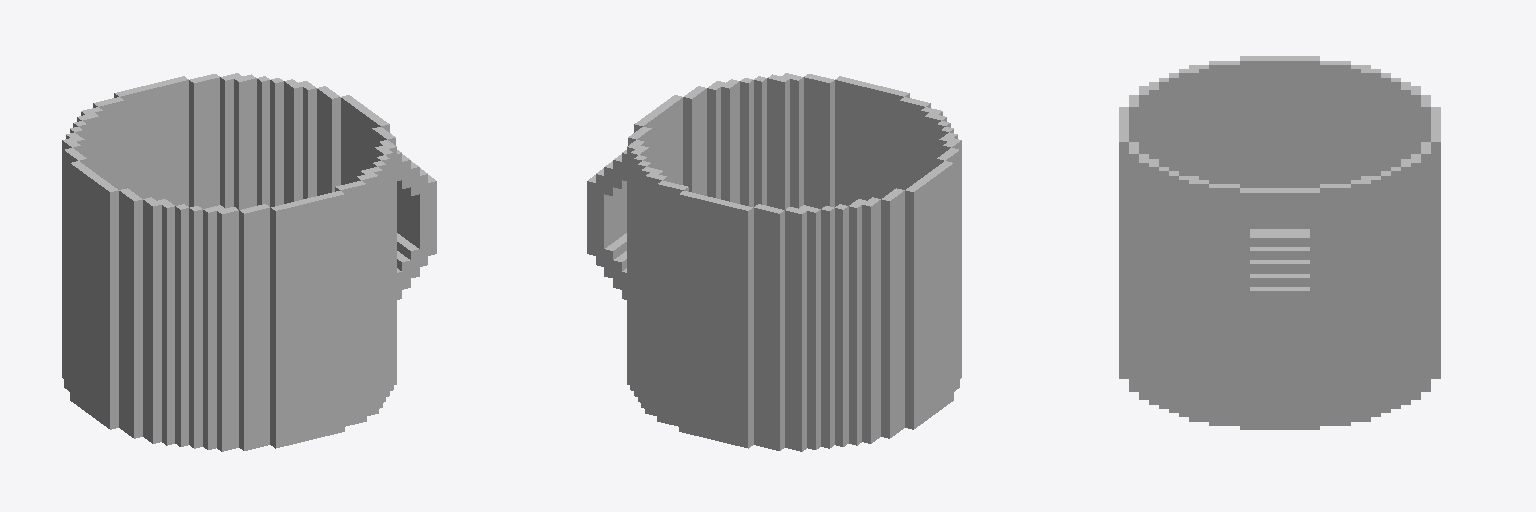
File: Cup.obj
3 views of the same model, side by side, from view 1: azimuth 30°, elevation 25°; view 2: azimuth 150°, elevation 25°; view 3: azimuth 270°, elevation 25° (orthographic).
Visible parts, largest first — view 1: object 1; view 2: object 1; view 3: object 1.
Part boxes in pixels (left/top/right/bottom): object 1: left=62, top=73, right=436, bottom=451; object 1: left=587, top=73, right=961, bottom=451; object 1: left=1119, top=56, right=1440, bottom=429.
Size of the model in its own units: 3.8 by 2.6 by 3.2.